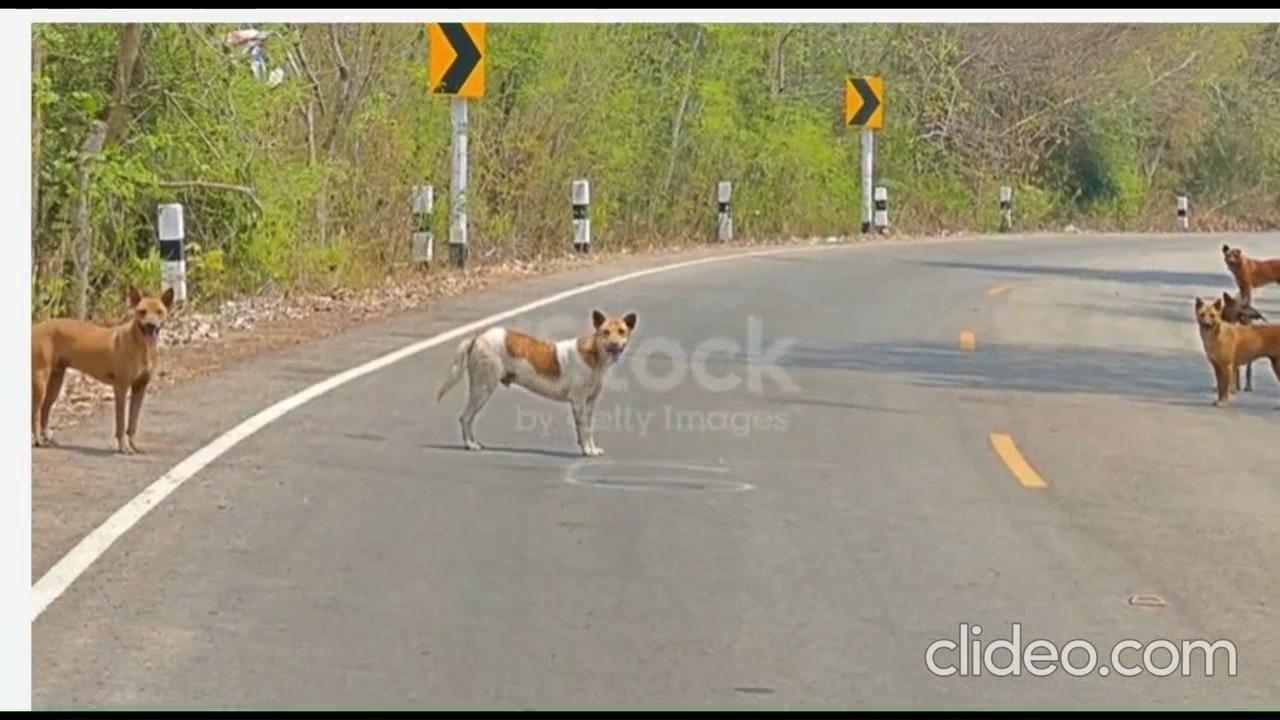dog: (433, 295, 643, 451), (36, 287, 176, 457), (1189, 291, 1280, 411), (1207, 238, 1280, 297)
